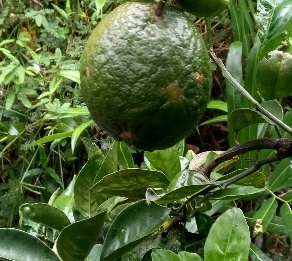Cam: (79, 2, 215, 151)
